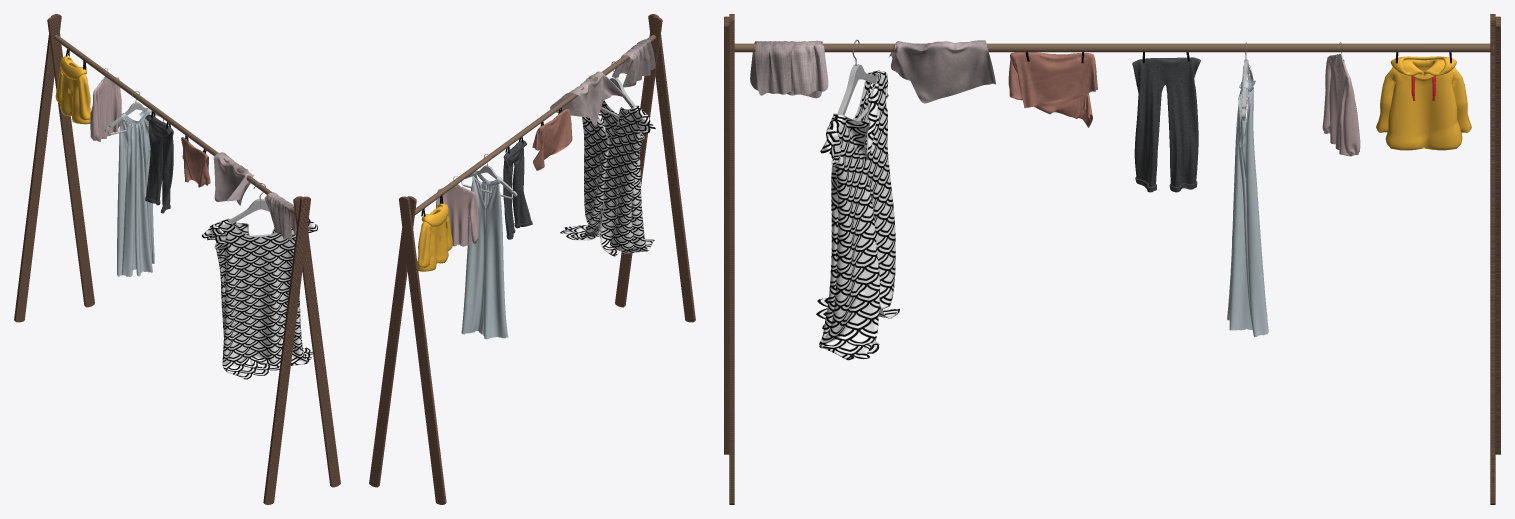
Rendered from Cloth3.fbx.
3 renders of one model, left to right at view 1: azimuth 30°, elevation 25°; view 2: azimuth 150°, elevation 25°; view 3: azimuth 270°, elevation 25°, orthographic. The views are drawn at different scales.
Parts seen in each view (by area): view 1: samor_2276_17, cloth06, cloth07, Cloth02, Colth01, cloth08, samor_2276_18, Cloth05, cloth04, 55.002, samor_2276_13; view 2: samor_2276_17, cloth06, cloth07, Cloth02, Colth01, cloth08, Cloth05, samor_2276_18, cloth04, 55.002, samor_2276_127; view 3: cloth06, samor_2276_17, Colth01, Cloth02, cloth07, samor_2276_18, cloth04, Cloth05, 55.002, cloth08.
Part boxes in pixels (x1,y1,x2,y2): samor_2276_17: (14,14,340,504); cloth06: (201,218,317,379); cloth07: (117,108,154,276); Cloth02: (145,114,173,213); Colth01: (55,56,90,124); cloth08: (90,77,121,141); samor_2276_18: (54,35,294,214); Cloth05: (213,152,254,205); cloth04: (181,137,210,187); 55.002: (264,192,296,239); samor_2276_13: (212,183,270,236); samor_2276_17: (369,14,695,504); cloth06: (560,100,655,256); cloth07: (461,170,508,339); Cloth02: (503,140,532,239); Colth01: (417,203,452,271); cloth08: (436,186,478,246); Cloth05: (550,71,626,126); samor_2276_18: (415,35,655,214); cloth04: (532,109,572,170); 55.002: (612,39,655,87); samor_2276_127: (461,154,517,199); cloth06: (816,70,899,360); samor_2276_17: (724,14,1500,504); Colth01: (1376,56,1471,150); Cloth02: (1132,57,1200,192); cloth07: (1227,64,1268,336); samor_2276_18: (734,43,1490,52); cloth04: (1008,52,1097,127); Cloth05: (889,40,995,103); 55.002: (750,40,828,98); cloth08: (1322,54,1360,156).
Bounding box in the file's own units: 91.84 × 255 × 389.
13 materials, 4 textured.
